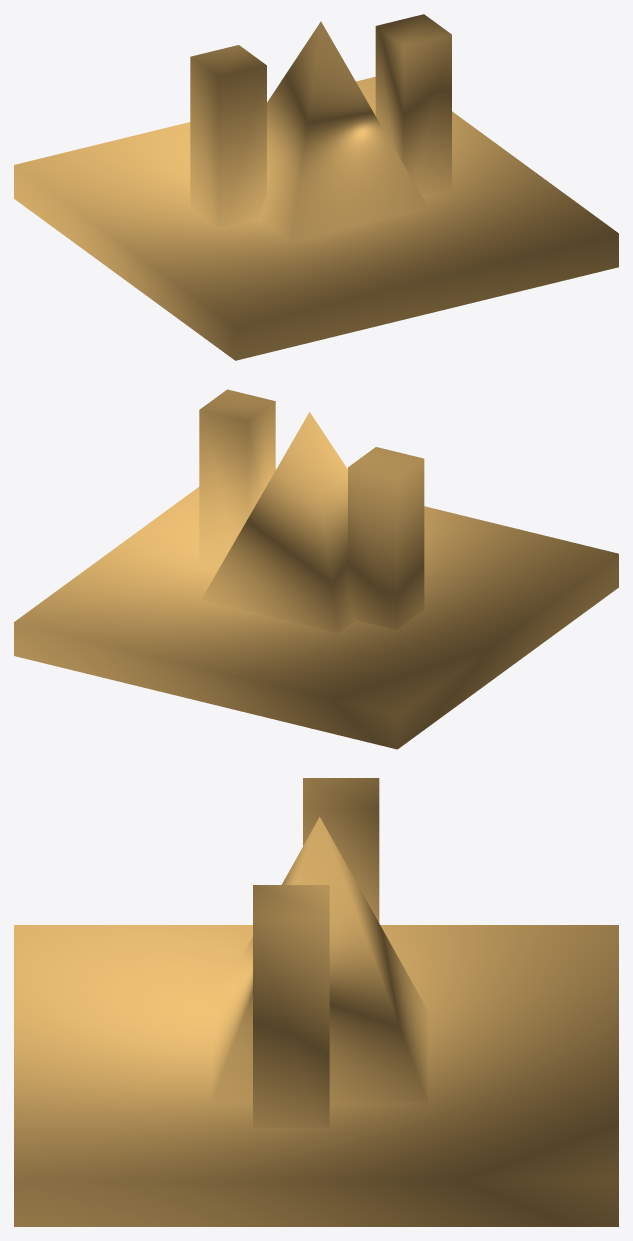
File: ps2_jrpg_highland_campfire_stones.obj
3 views of the same model, one above another, from view 1: azimuth 30°, elevation 25°; view 2: azimuth 150°, elevation 25°; view 3: azimuth 270°, elevation 25° (orthographic). The views are drawn at different scales.
Bounding box in the file's own units: 0.95 × 0.4959 × 0.95.
